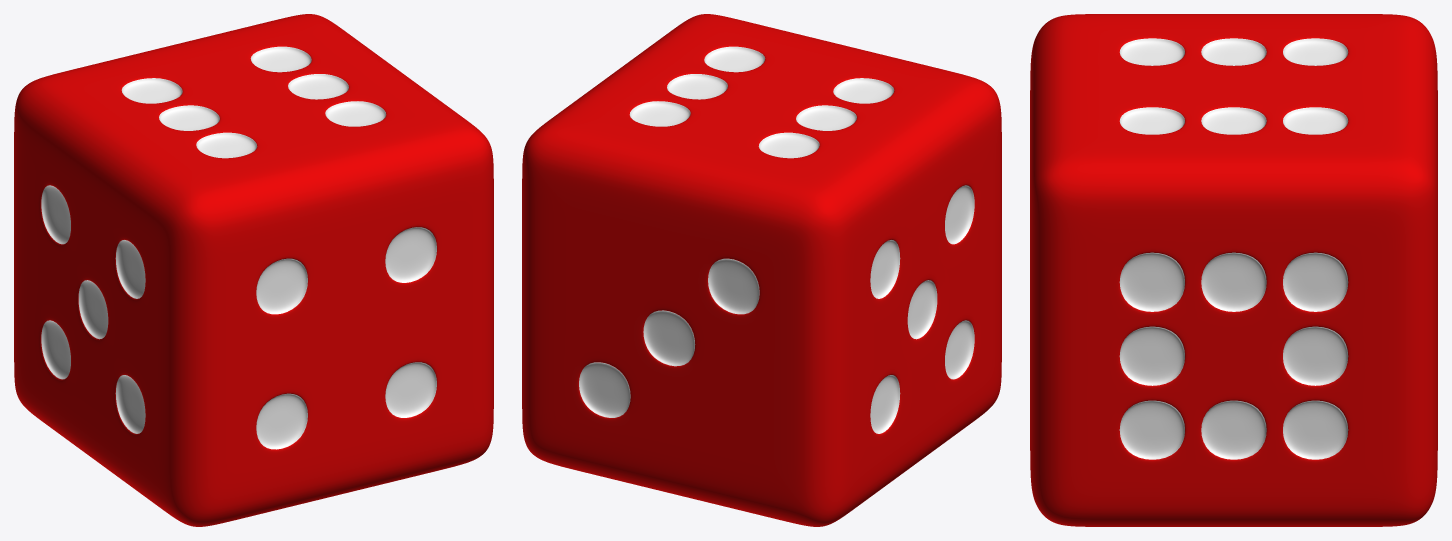
The model's file is Dice3DWith8.glb.
3 renders of one model, left to right at view 1: azimuth 30°, elevation 25°; view 2: azimuth 150°, elevation 25°; view 3: azimuth 270°, elevation 25°, orthographic. The views are drawn at different scales.
Parts seen in each view (by area): view 1: Cube; view 2: Cube; view 3: Cube.
Part boxes in pixels (x1,y1,x2,y2): Cube: [14, 14, 493, 526]; Cube: [522, 14, 1001, 526]; Cube: [1030, 14, 1437, 526].
Size of the model in its own units: 2 by 2 by 2.
